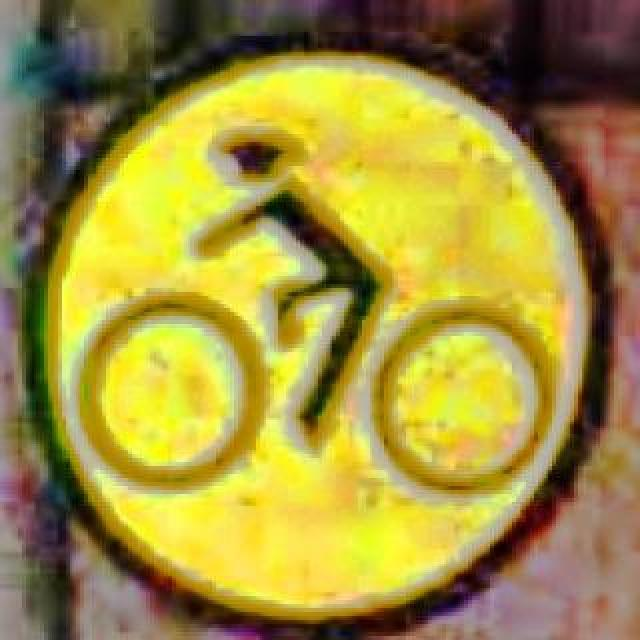bike lane: (18, 28, 610, 636)
